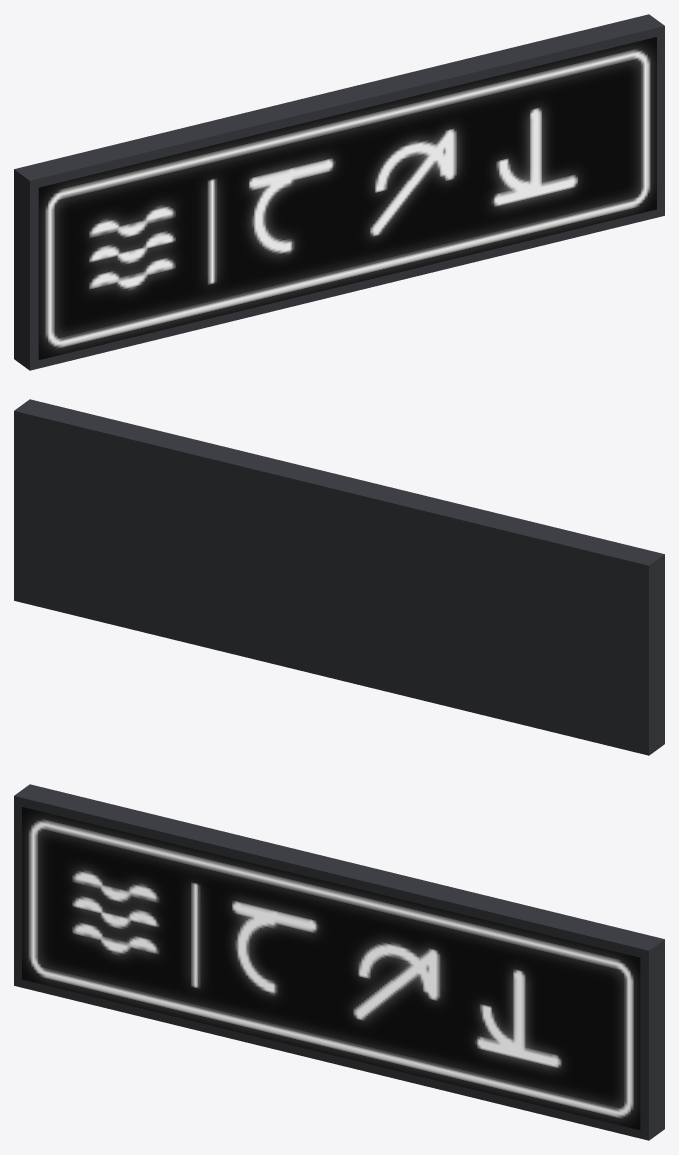
The model's file is sign_fascia_7.gltf.
3 views of the same model, one above another, from view 1: azimuth 30°, elevation 25°; view 2: azimuth 150°, elevation 25°; view 3: azimuth 330°, elevation 25° (orthographic).
Visible parts, largest first — view 1: sign_fascia_7; view 2: sign_fascia_7; view 3: sign_fascia_7.
Part boxes in pixels (x1,y1,x2,y2): sign_fascia_7: (14,14,664,370); sign_fascia_7: (14,399,664,755); sign_fascia_7: (14,784,664,1140).
Size of the model in its own units: 4.62 by 1.32 by 0.205.
Materials: 2 (1 with a texture image).
